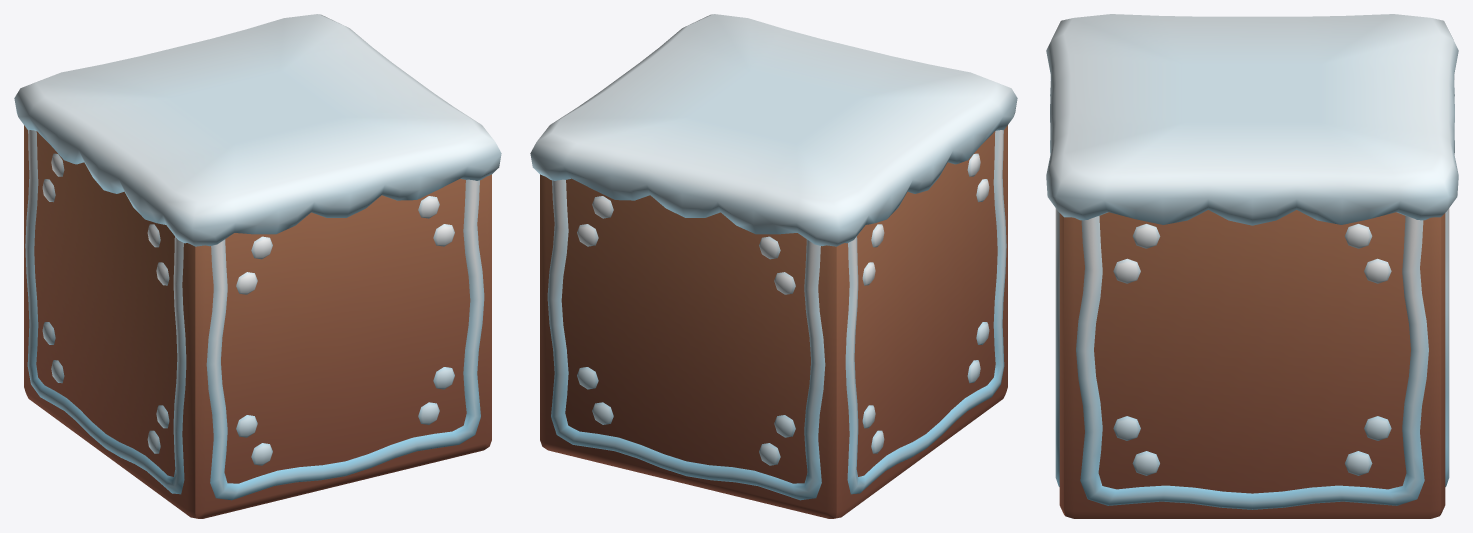
The model's file is cube_gingerbread_large_B.obj.
The picture shows the model from 3 angles, left to right: view 1: azimuth 30°, elevation 25°; view 2: azimuth 150°, elevation 25°; view 3: azimuth 270°, elevation 25°; orthographic projection. The views are drawn at different scales.
Parts seen in each view (by area): view 1: cube_gingerbread_large_B; view 2: cube_gingerbread_large_B; view 3: cube_gingerbread_large_B.
Boxes of the visible parts, x1,y1,x2,y2 form: cube_gingerbread_large_B: (14,14,501,518); cube_gingerbread_large_B: (530,14,1017,518); cube_gingerbread_large_B: (1046,14,1458,518).
Size of the model in its own units: 4.28 by 4 by 4.28.
Materials: 1 (1 with a texture image).
